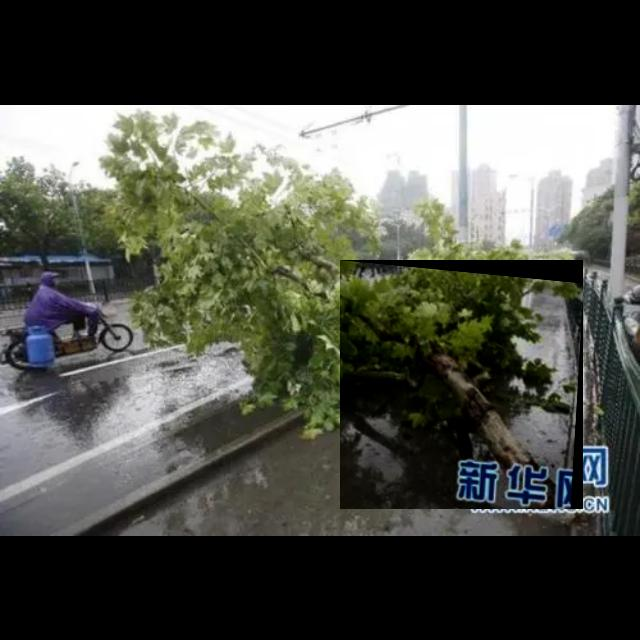Fallen Tree: (340, 260, 584, 510)
